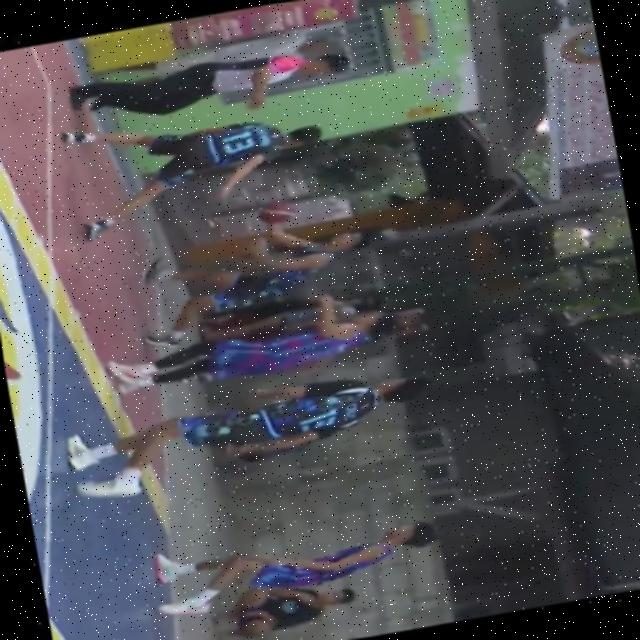ball: (245, 194, 304, 232)
